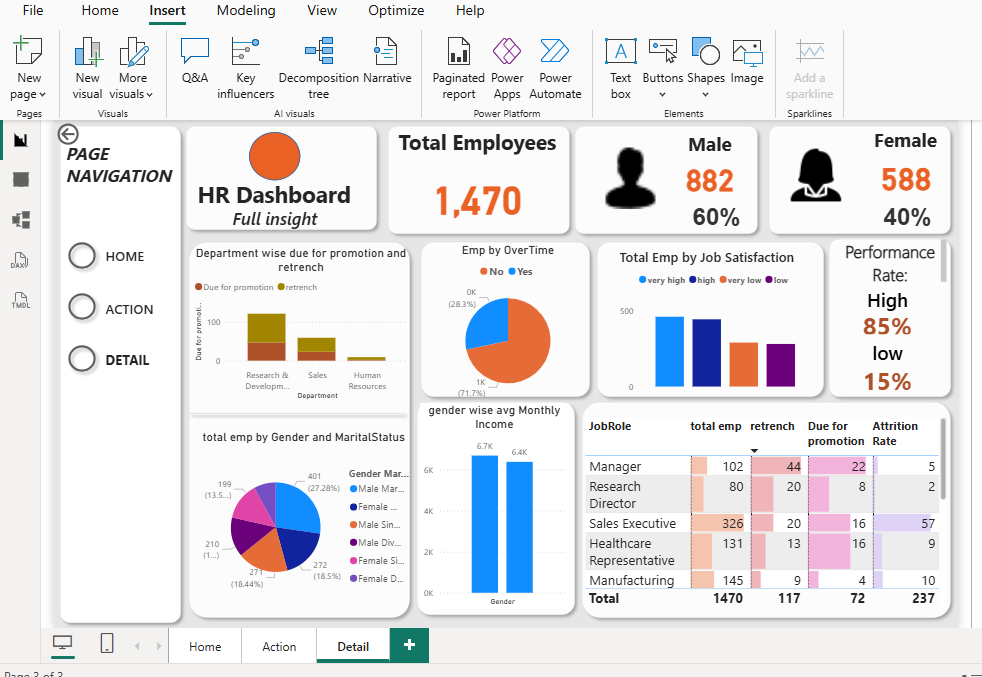

The page's visual inventory and layout, read from the dashboard file:
{"tool":"powerbi","page":{"name":"Detail","canvas":[1280,720],"ordinal":2},"visuals":[{"type":"shape","box":[0,0,188.5,721.4],"z":0},{"type":"shape","box":[464.8,0,274.6,170.2],"z":1000},{"type":"shape","box":[178.8,0,287.5,170.2],"z":2000},{"type":"shape","box":[729.4,0,276,170.2],"z":3000},{"type":"shape","box":[1005.4,0,274.6,170.2],"z":4000},{"type":"textbox","box":[198.8,78.7,238.8,52.9],"z":5000},{"type":"textbox","box":[188.8,117.3,248.8,52.9],"z":6000},{"type":"shape","box":[276,17.2,72.9,68.6],"z":7000},{"type":"card","title":"Total Employees","fields":{"Values":["all measures.total emp"]},"box":[476.2,10,247.4,154.5],"z":8000},{"type":"card","title":"Male","fields":{"Values":["all measures.male"]},"box":[868.1,15.7,121.6,95.8],"z":9000},{"type":"card","title":"Male","fields":{"Values":["all measures.percent_female"]},"box":[1149.9,111.6,121.6,45.8],"z":10000},{"type":"image","box":[768,34.3,100.1,97.3],"z":11000},{"type":"card","title":"Female","fields":{"Values":["all measures.female"]},"box":[1142.4,9.9,129,102],"z":12000},{"type":"card","title":"Male","fields":{"Values":["all measures.percent_male"]},"box":[878.1,111.6,121.6,45.8],"z":13000},{"type":"image","box":[1029.7,25.7,98.7,105.8],"z":14000},{"type":"actionButton","title":"HOME","box":[11.3,164.4,56.7,55.3],"z":15000},{"type":"textbox","box":[11.3,25.5,167.2,79.4],"z":16000},{"type":"textbox","box":[68,321.7,104.9,58.1],"z":17000},{"type":"actionButton","title":"HOME","box":[11.3,236.7,56.7,55.3],"z":18000},{"type":"actionButton","title":"HOME","box":[11.3,310.4,56.7,55.3],"z":19000},{"type":"textbox","box":[68,174.3,95,45.4],"z":20000},{"type":"textbox","box":[68,249.4,95,42.5],"z":21000},{"type":"shape","box":[182.8,164.4,330.2,549.9],"z":21001},{"type":"columnChart","title":"Department wise due for promotion and retrench","fields":{"Category":["Hr data analysis.Department"],"Y":["all measures.Due for promotion","all measures.retrench"]},"box":[194.2,178.6,311.8,511.7],"z":21002},{"type":"shape","box":[511.7,164.4,256.5,252.3],"z":21003},{"type":"pieChart","title":"Emp by OverTime","fields":{"Category":["Hr data analysis.OverTime"],"Y":["all measures.total emp"]},"box":[518.7,178.6,242.4,222.5],"z":21004},{"type":"shape","box":[755.4,164.4,344.4,246.6],"z":21005},{"type":"columnChart","title":"Total Emp by Job Satisfaction","fields":{"Y":["all measures.total emp"],"Category":["Hr data analysis.job satisfy rate"],"Series":["Hr data analysis.job satisfy rate"]},"box":[780.9,170.1,282,231],"z":21006},{"type":"shape","box":[510.2,401.1,769.6,313.2],"z":21007},{"type":"tableEx","fields":{"Values":["Hr data analysis.JobRole","all measures.total emp","all measures.retrench","all measures.Due for promotion"]},"box":[530.1,416.7,742.7,273.5],"z":21008},{"type":"shape","box":[1097,160.2,182.8,250.9],"z":21009},{"type":"card","title":"low rate","fields":{"Values":["all measures.%high rate"]},"box":[1106.9,170.1,163,116.2],"z":21010},{"type":"card","title":"low rate","fields":{"Values":["all measures.%low rate"]},"box":[1106.9,290.6,163,110.6],"z":21011}]}

Visuals, with their boxes on the page's 1280x720 design canvas (x1, y1, x2, y2). These are canvas units, not pixel positions in the 982x677 screenshot, which may show the page scaled, cropped or inside an application window:
shape: 0,0,188,721
shape: 465,0,739,170
shape: 179,0,466,170
shape: 729,0,1005,170
shape: 1005,0,1280,170
textbox: 199,79,438,132
textbox: 189,117,438,170
shape: 276,17,349,86
"Total Employees" card: 476,10,724,164
"Male" card: 868,16,990,112
"Male" card: 1150,112,1272,157
image: 768,34,868,132
"Female" card: 1142,10,1271,112
"Male" card: 878,112,1000,157
image: 1030,26,1128,132
"HOME" actionButton: 11,164,68,220
textbox: 11,26,178,105
textbox: 68,322,173,380
"HOME" actionButton: 11,237,68,292
"HOME" actionButton: 11,310,68,366
textbox: 68,174,163,220
textbox: 68,249,163,292
shape: 183,164,513,714
"Department wise due for promotion and retrench" columnChart: 194,179,506,690
shape: 512,164,768,417
"Emp by OverTime" pieChart: 519,179,761,401
shape: 755,164,1100,411
"Total Emp by Job Satisfaction" columnChart: 781,170,1063,401
shape: 510,401,1280,714
tableEx - Hr data analysis.JobRole x all measures.total emp: 530,417,1273,690
shape: 1097,160,1280,411
"low rate" card: 1107,170,1270,286
"low rate" card: 1107,291,1270,401
